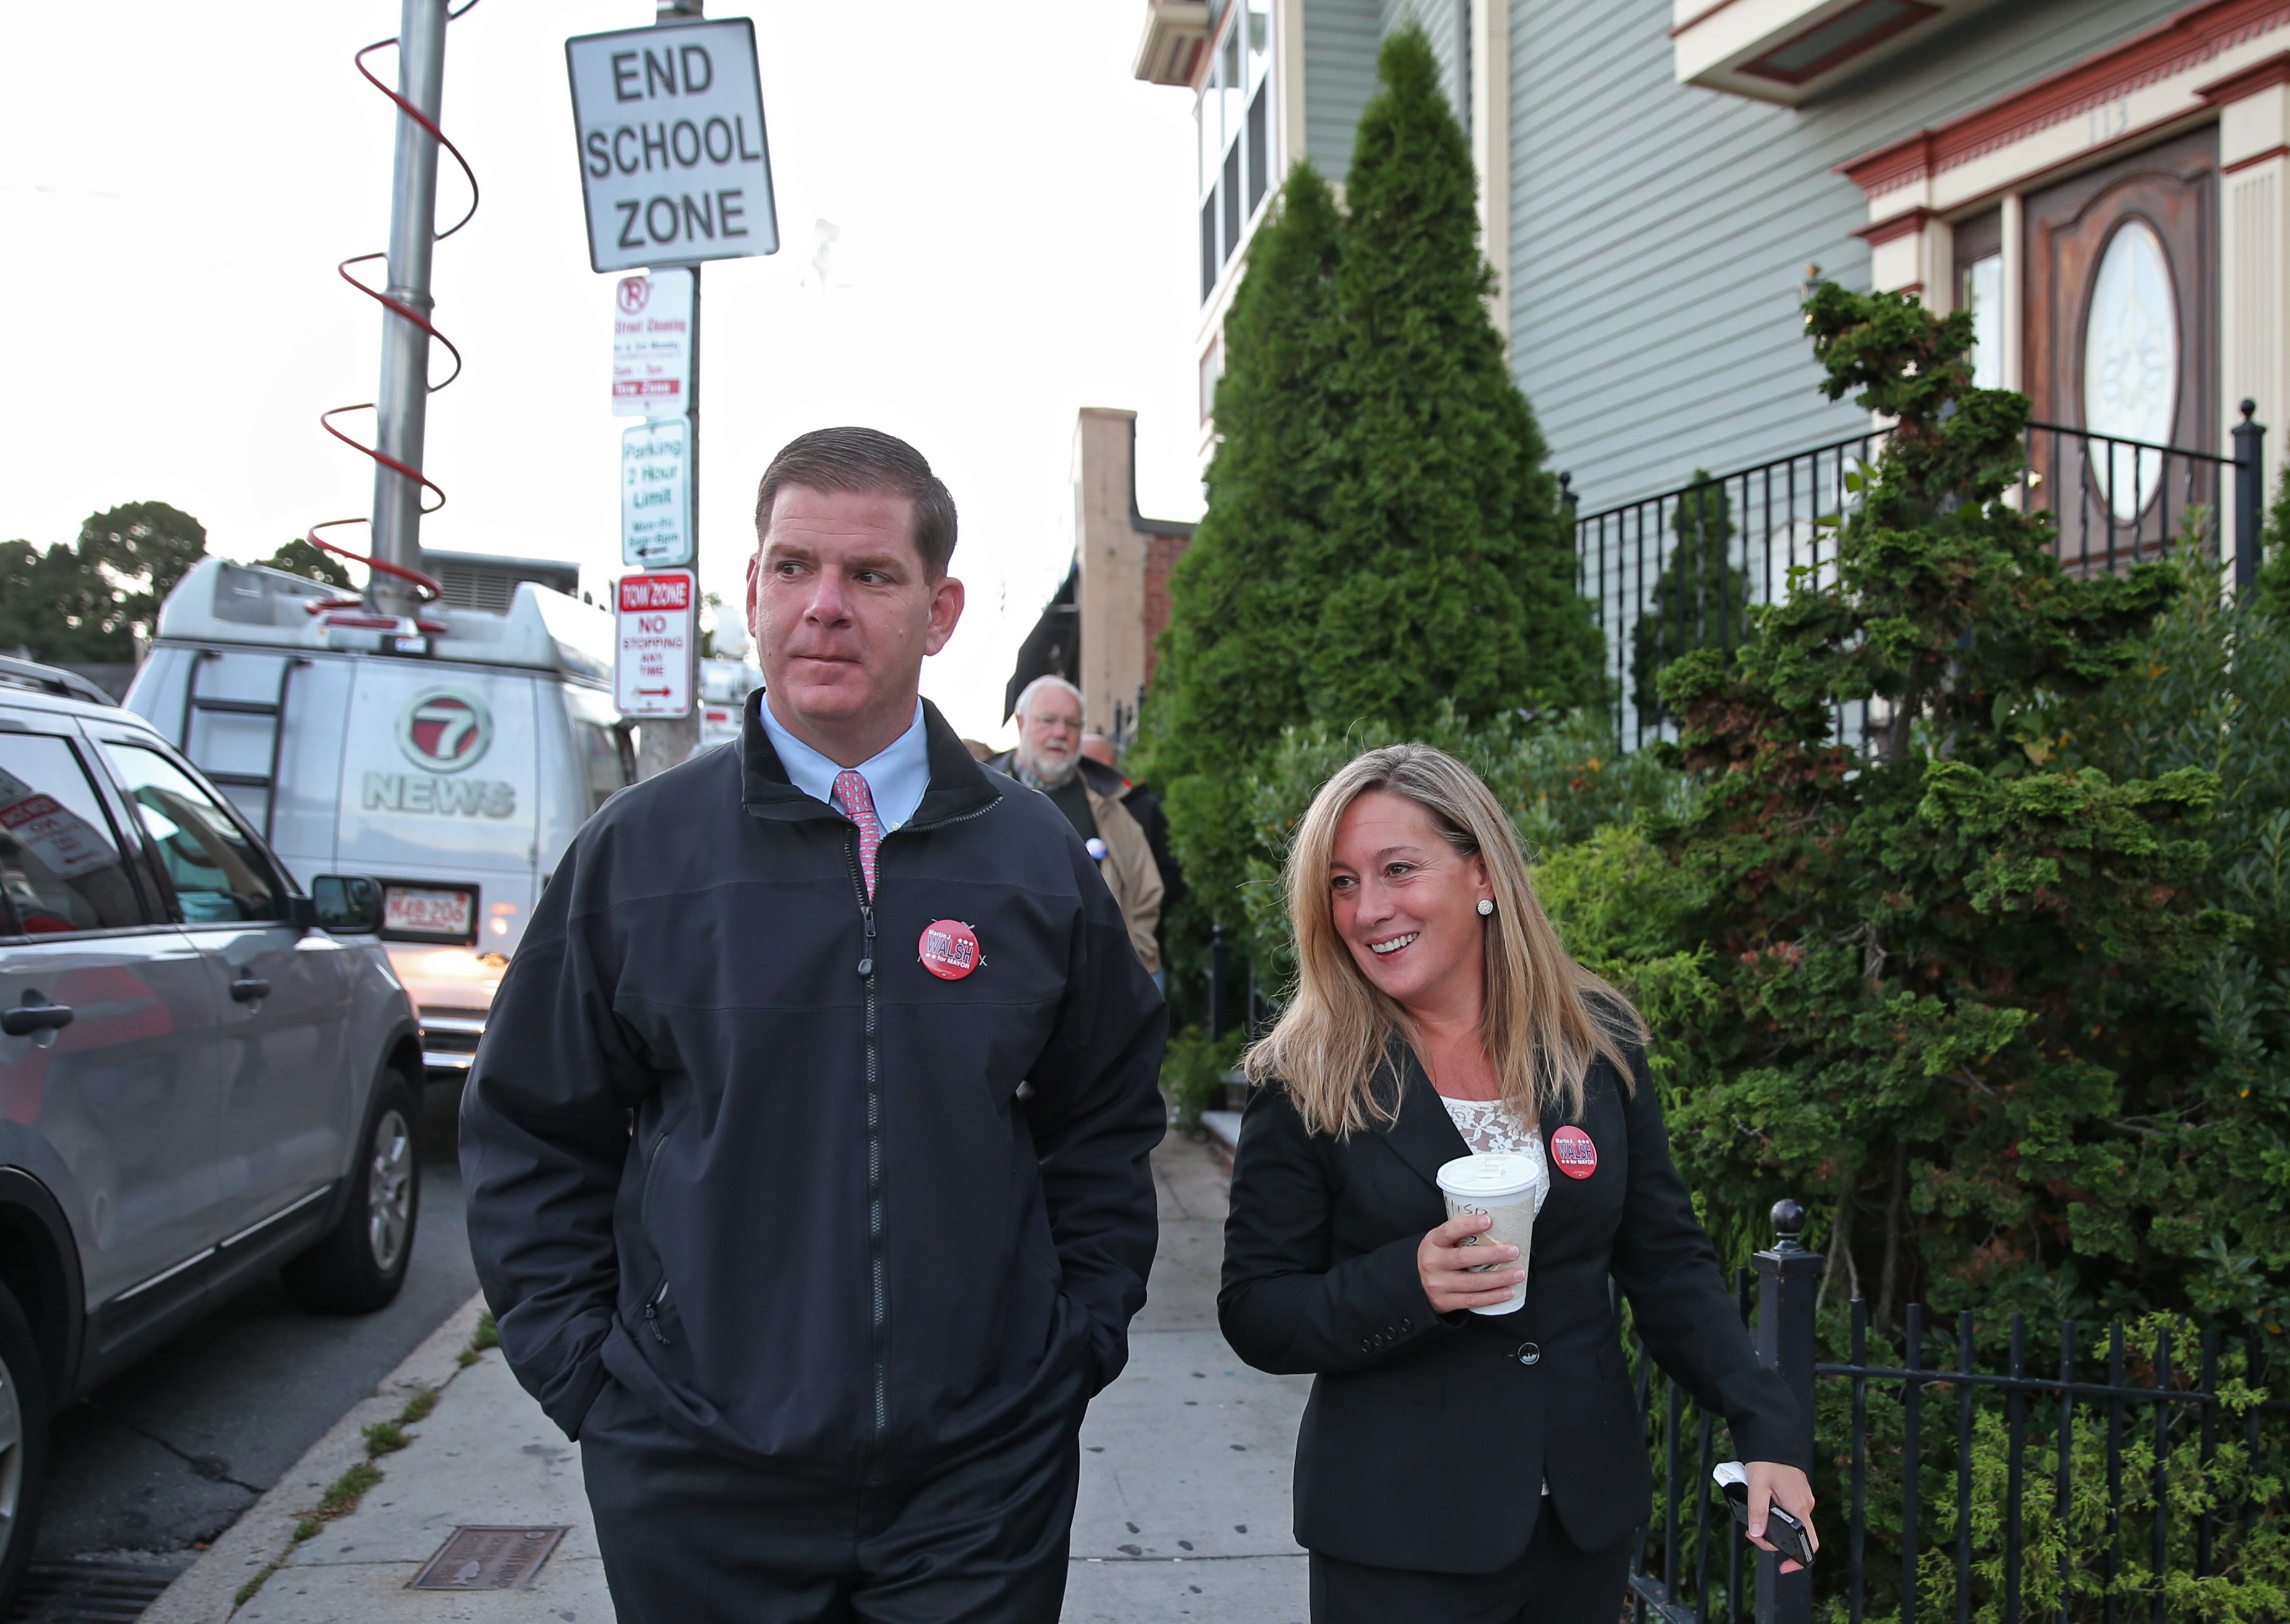Person: (524, 440, 1095, 1624), (1232, 787, 1765, 1569)
